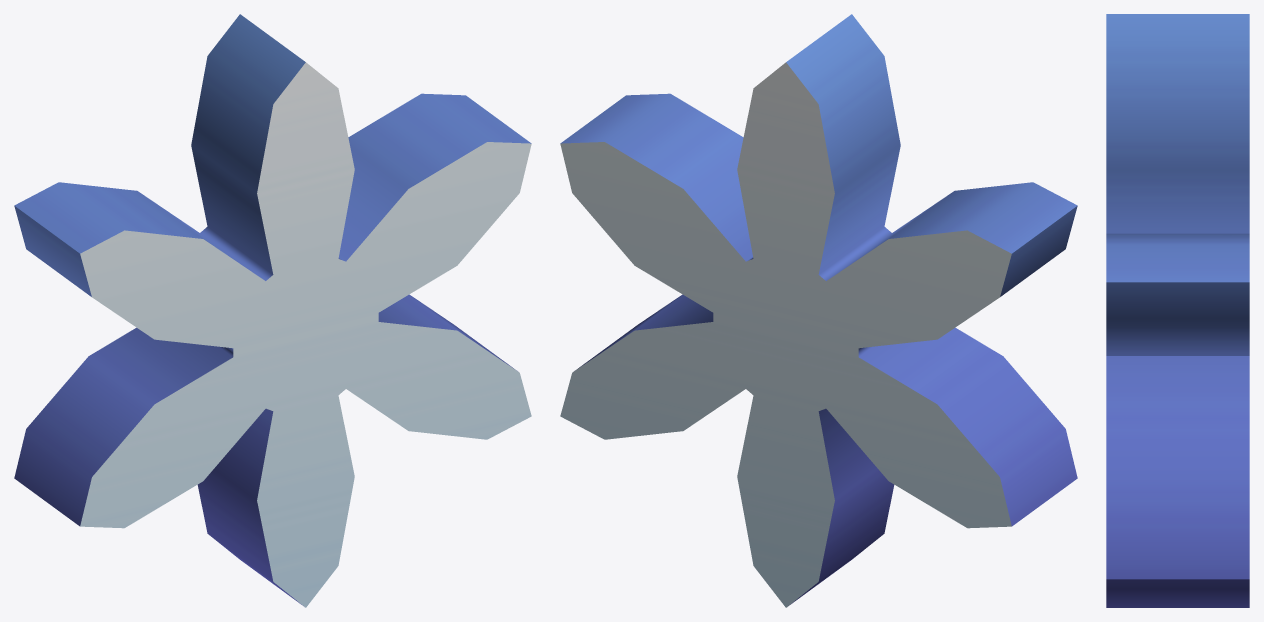
The model's file is snowflake-c.obj.
The picture shows the model from 3 angles, left to right: view 1: azimuth 30°, elevation 25°; view 2: azimuth 150°, elevation 25°; view 3: azimuth 270°, elevation 25°; orthographic projection. The views are drawn at different scales.
Parts seen in each view (by area): view 1: snowflake-c; view 2: snowflake-c; view 3: snowflake-c.
Part boxes in pixels (x1,y1,x2,y2): snowflake-c: (14, 14, 531, 607); snowflake-c: (560, 14, 1077, 607); snowflake-c: (1106, 14, 1249, 607).
Bounding box in the file's own units: 0.3464 × 0.4 × 0.0875.
1 material, 1 textured.
